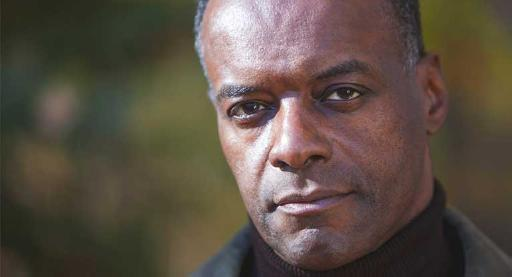left_eye: (322, 84, 370, 106)
left_lip_corner: (339, 188, 361, 198)
right_eye: (225, 98, 273, 122)
right_lip_corner: (268, 196, 284, 213)
